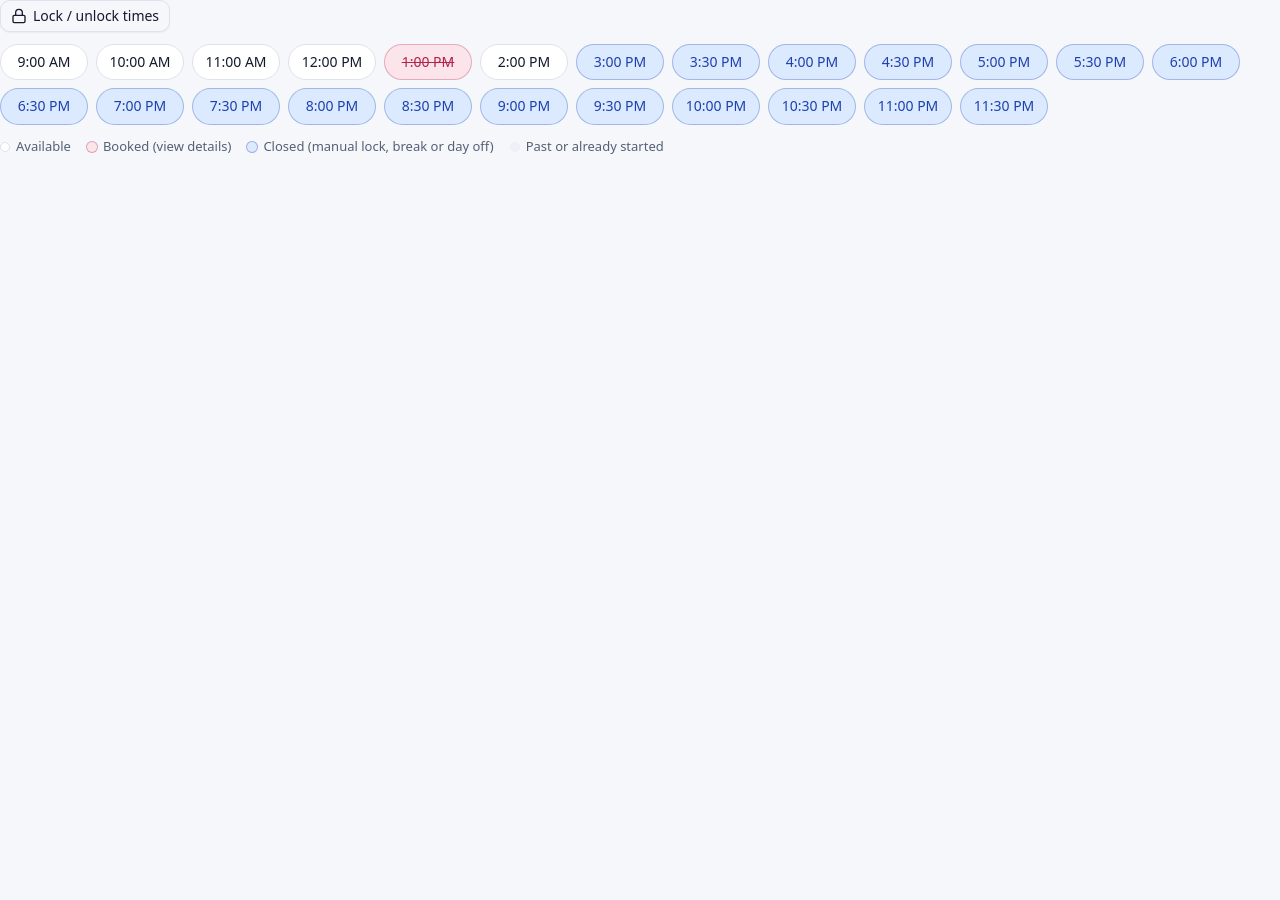
Test case: booked hour bubble › opens the reservation summary on hover without a link, and toggles on click
Hover over the radio button with aria-label "1:00 PM, booked": (428, 62) [384,44,472,80]
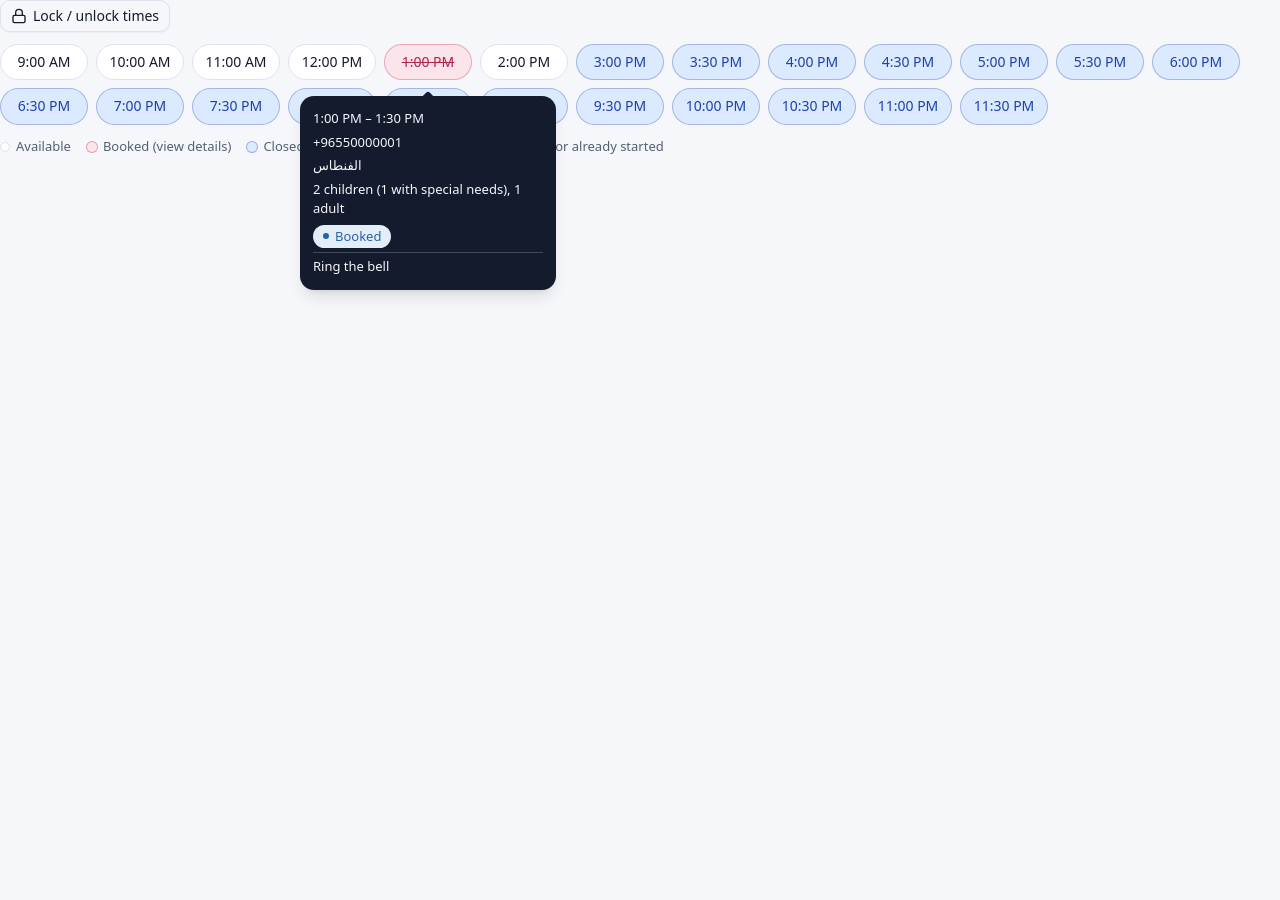
Now the text "+96550000001" is shown, box [313,132,402,150]
Now the text "2 children (1 with special needs), 1 adult" is shown, box [313,180,543,218]
Now the text "الفنطاس" is shown, box [313,156,362,174]
Click the radio button labelled "2:00 PM": (524, 62) [480,44,568,80]
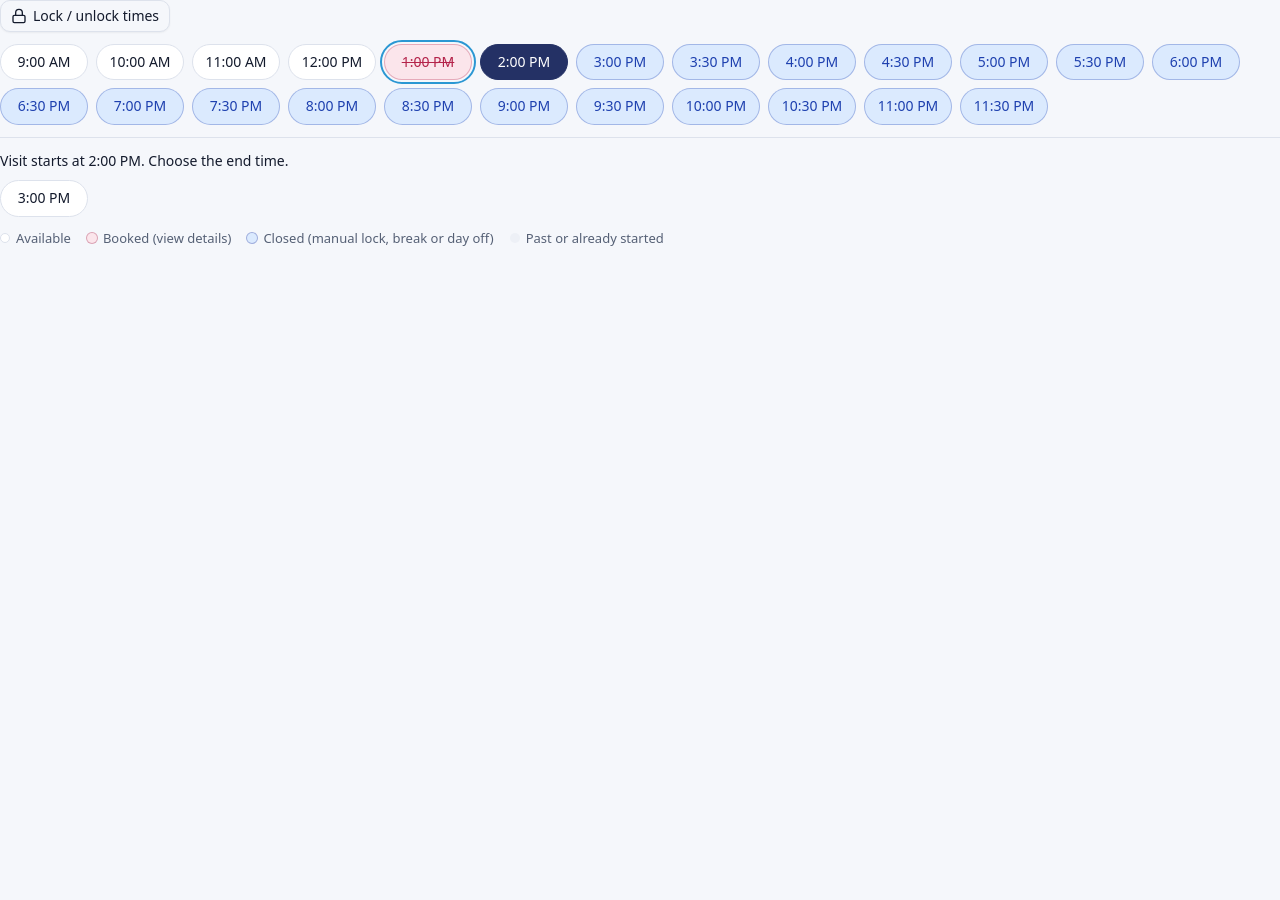
Now the text "+96550000001" is gone
